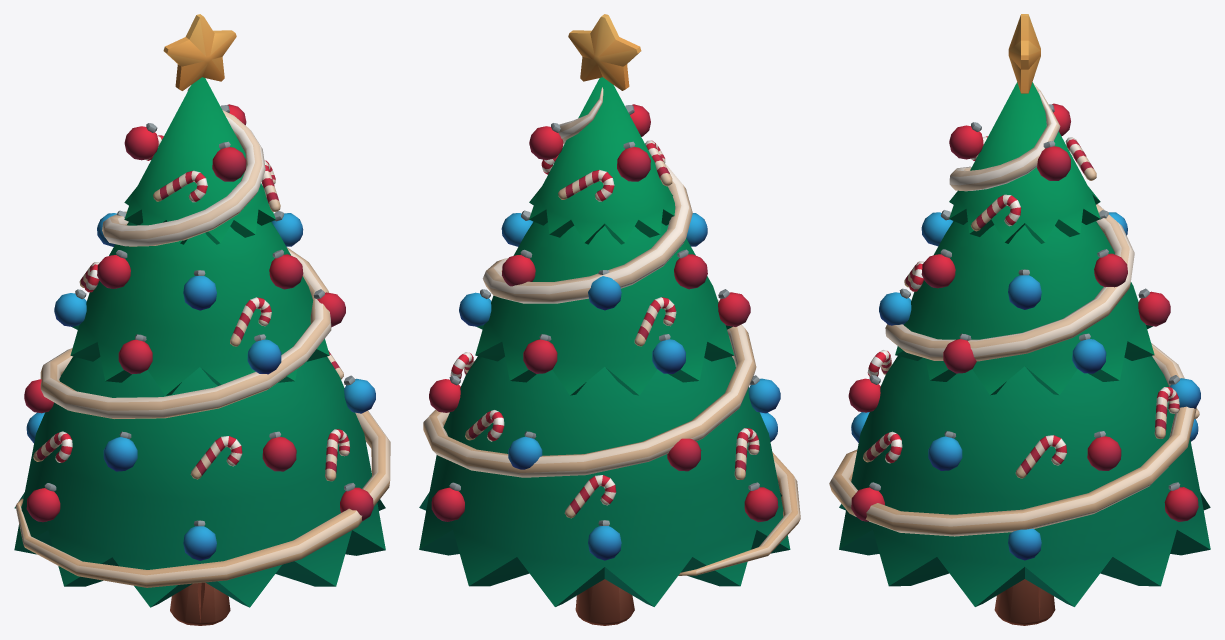
File: christmas_tree_withoutLights.obj
3 renders of one model, left to right at view 1: azimuth 30°, elevation 25°; view 2: azimuth 150°, elevation 25°; view 3: azimuth 270°, elevation 25°, orthographic.
Parts seen in each view (by area): view 1: christmas_tree_withoutLights; view 2: christmas_tree_withoutLights; view 3: christmas_tree_withoutLights.
Boxes of the visible parts, bbox=[...] form: christmas_tree_withoutLights: bbox=[14, 14, 390, 625]; christmas_tree_withoutLights: bbox=[419, 14, 800, 625]; christmas_tree_withoutLights: bbox=[829, 14, 1210, 625].
Bounding box in the file's own units: 2.41 × 4.03 × 2.32.
1 material, 1 textured.
